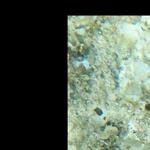dead: (68, 16, 149, 148)
